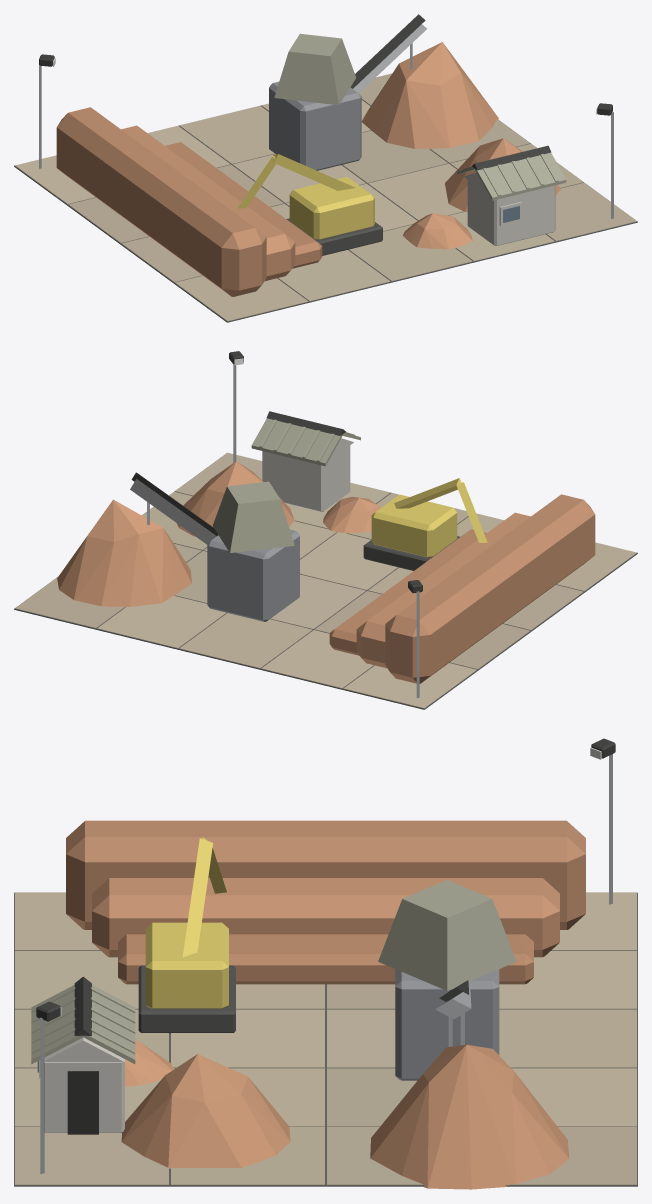
Rendered from b_bauxmine.glb.
3 renders of one model, top to bottom at view 1: azimuth 30°, elevation 25°; view 2: azimuth 150°, elevation 25°; view 3: azimuth 270°, elevation 25°, orthographic. The views are drawn at different scales.
Visible parts, largest first — view 1: hull; view 2: hull; view 3: hull.
Boxes of the visible parts, box(x1,y1,x2,y2) form: hull: box(14, 14, 637, 322); hull: box(14, 351, 637, 709); hull: box(14, 738, 637, 1189).
Bounding box in the file's own units: 20.19 × 5.28 × 18.
